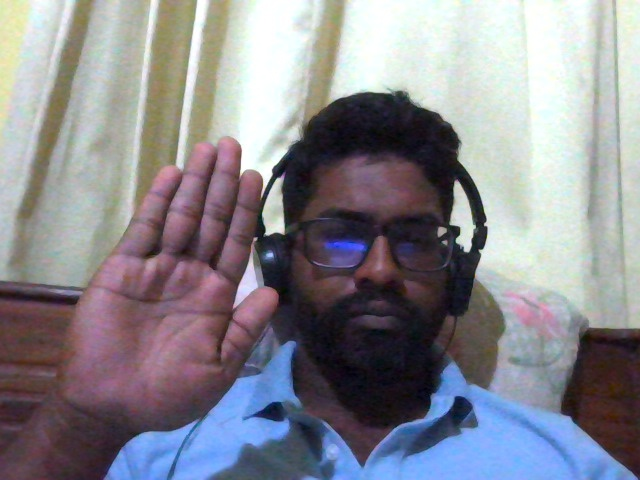Hello: (37, 124, 284, 445)
